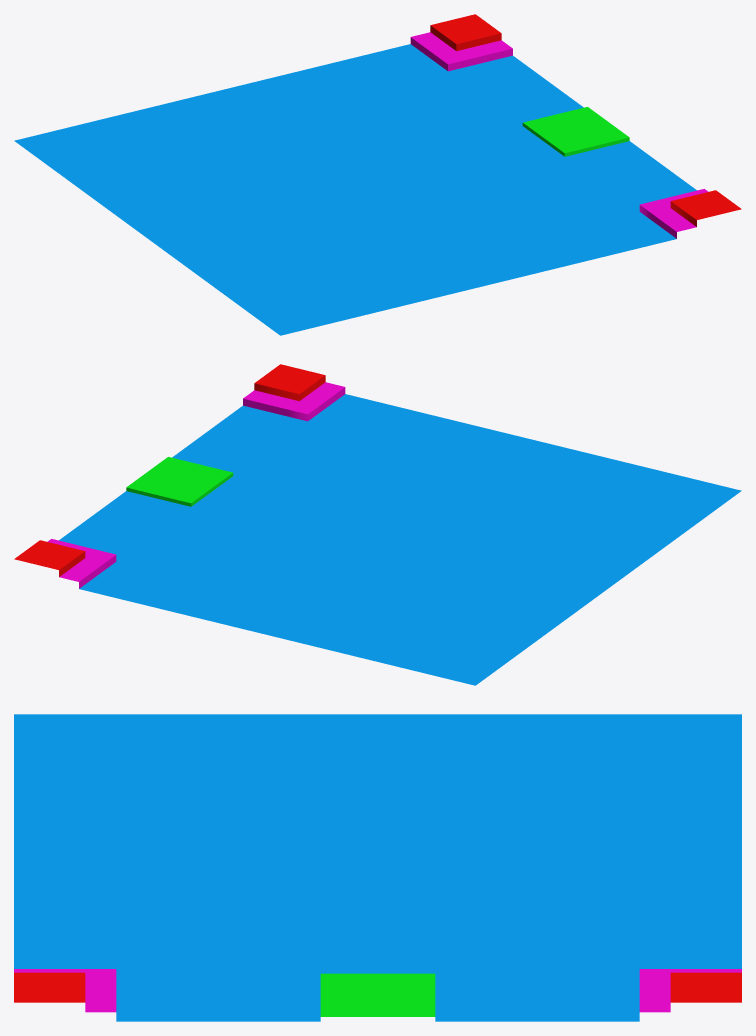
Rendered from FLoorEntrance.fbx.
3 renders of one model, top to bottom at view 1: azimuth 30°, elevation 25°; view 2: azimuth 150°, elevation 25°; view 3: azimuth 270°, elevation 25°, orthographic. The views are drawn at different scales.
Visible parts, largest first — view 1: Entrance; view 2: Entrance; view 3: Entrance.
Part boxes in pixels (box(x1,y1,x2,y2)): Entrance: box(14, 14, 741, 335); Entrance: box(14, 364, 741, 685); Entrance: box(14, 714, 741, 1021).
Bounding box in the file's own units: 78.74 × 2.28 × 78.74.
